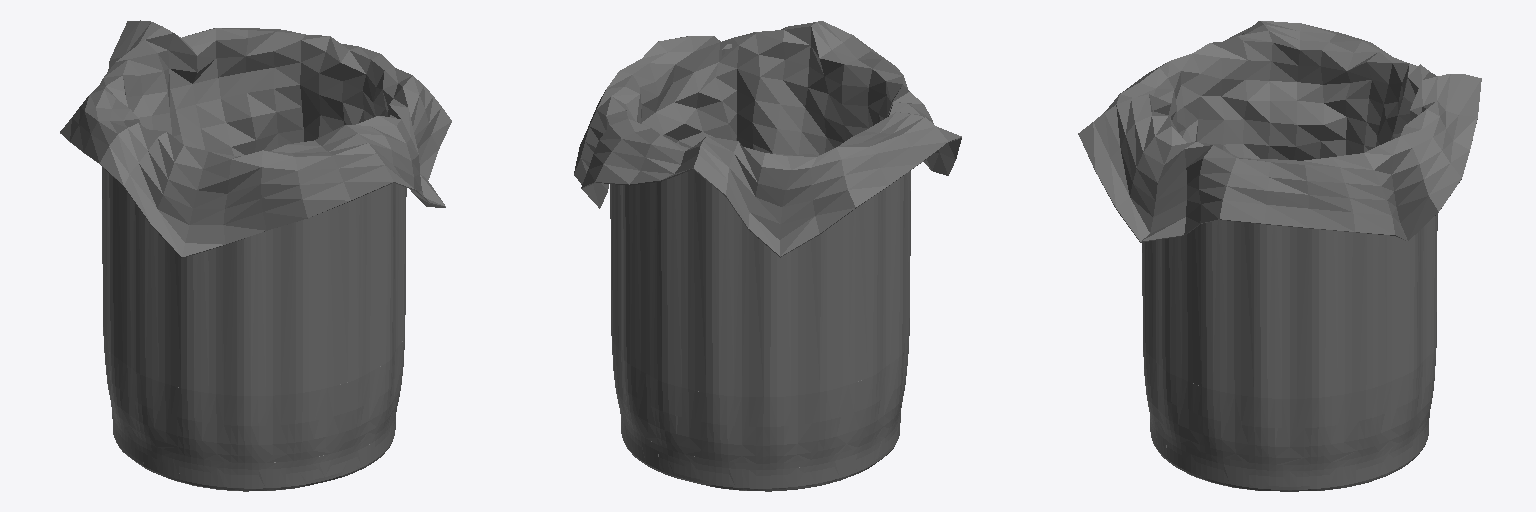
URDF robot description (object):
<?xml version="1.0"?>
<robot name="object">
  <link name="object">
    <visual>
      <origin xyz="0 0 0"/>
      <geometry>
        <mesh
          filename="../../mesh/omomo/trash.stl" />
      </geometry>
      <material name="mat">
        <color rgba="0.5 0.5 0.5 1"/>
      </material>
    </visual>

    <collision>
      <origin xyz="0 0 0"/>
      <geometry>
        <mesh
          filename="../../mesh/omomo/trash.stl" />
      </geometry>
    </collision>
  </link>
</robot>

--- Facts derived from the render (not from the file) ---
3 views of the same robot in one strip: view 1: azimuth 30°, elevation 25°; view 2: azimuth 150°, elevation 25°; view 3: azimuth 270°, elevation 25° (orthographic).
Robot: object — 1 links, 0 joints (none); root link object; default pose: all joints at 0.
Links seen in each view (by area): view 1: object; view 2: object; view 3: object.
Link boxes in pixels (bbox=[...]): object: bbox=[60, 20, 451, 491]; object: bbox=[574, 21, 961, 491]; object: bbox=[1078, 21, 1481, 491].
Size in the robot's own frame: 0.3258 by 0.345 by 0.3336 metres.
Meshes: 1 distinct files referenced, 1 mesh visuals loaded (1 binary STL).
